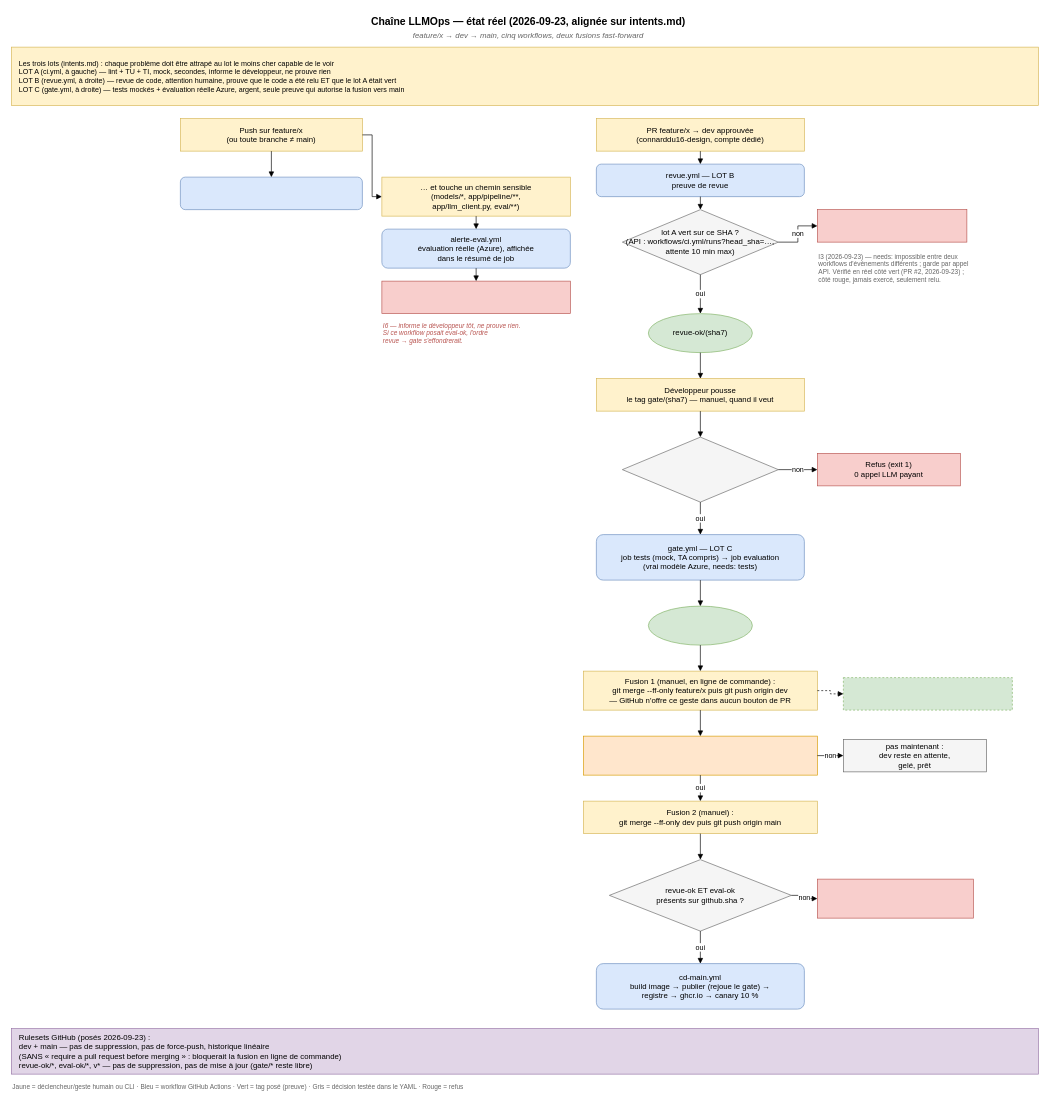
Some shapes in this 1050 by 1104 pixel diagram are drawn without their labels. Here are the shapes that lost their labels. From the top down, the centre of each, then its label:
At [271,193]: "ci.yml — LOT A lint + TU + TI (mock)".
At [892,225]: "Refus — pas de revue-ok (lot A rouge ou pas conclu)".
At [475,297]: "SIGNAL SEUL — aucun tag, aucun jeton d'écriture".
At [700,469]: "revue-ok présent sur ce SHA ?".
At [700,625]: "eval-ok/(sha7)".
At [927,693]: "dev = (sha7) gelé (revue-ok + eval-ok dessus)".
At [700,755]: "Décision de déploiement (séparée, humaine) : fusionner vers main maintenant ?".
At [895,898]: "Refus (exit 1) — cd-main.yml ne déploie pas (vécu en réel, incident PR #1)".
